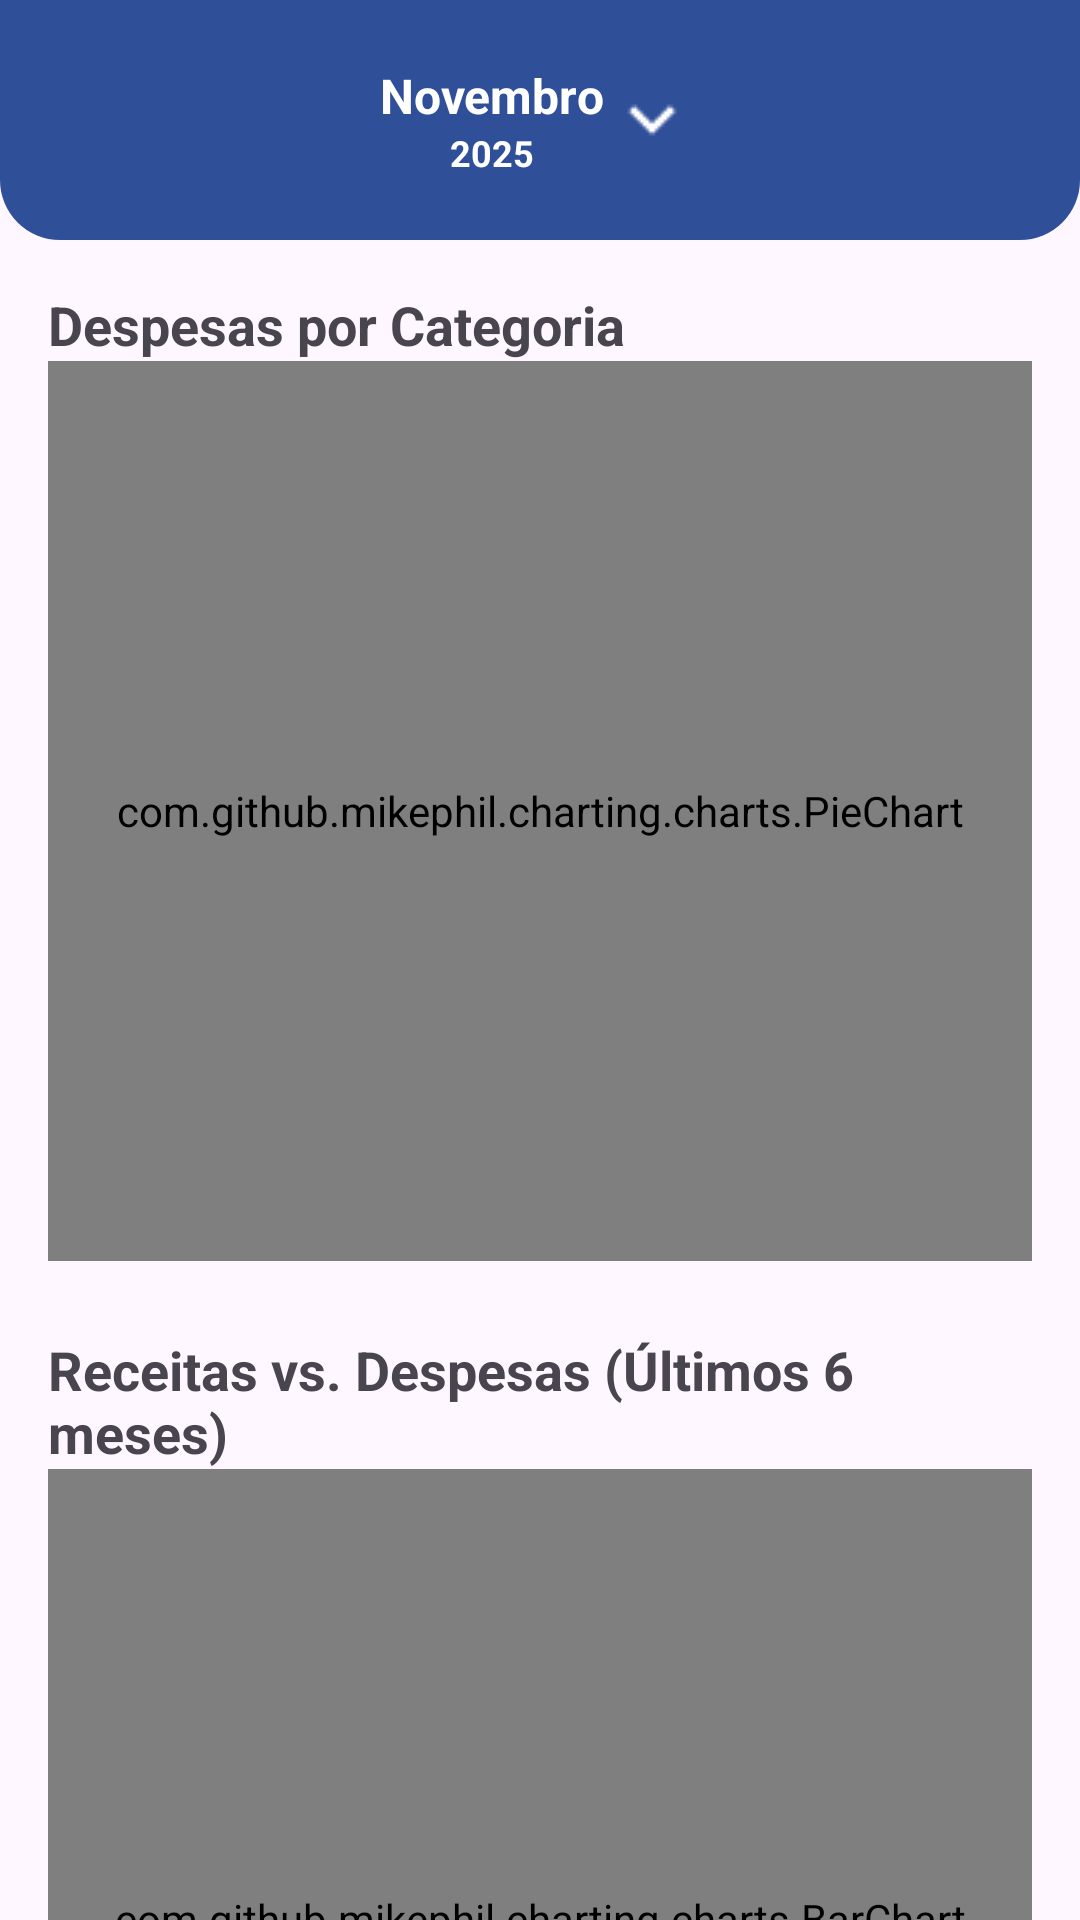

Icon bounding boxes for this 1080×1920 phone screenshot, format (x1, y1, x2, y2):
keyboard arrow down: (628, 105, 676, 135)
